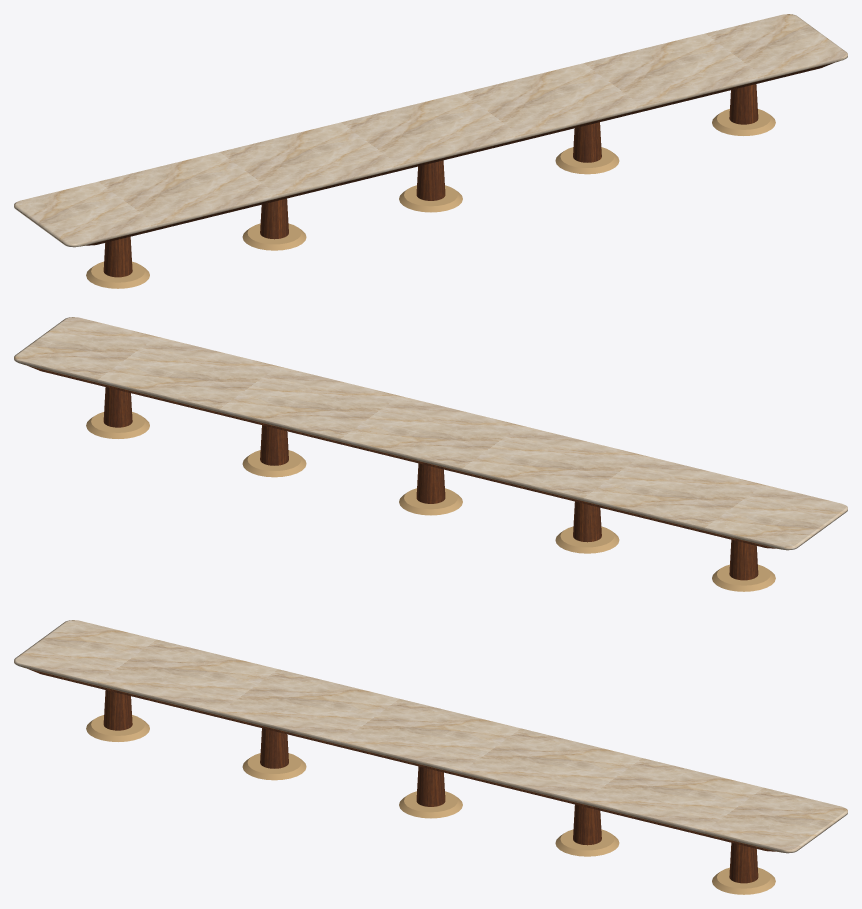
Rendered from SaloonRectangularTableFor24.glb.
3 renders of one model, top to bottom at view 1: azimuth 30°, elevation 25°; view 2: azimuth 150°, elevation 25°; view 3: azimuth 330°, elevation 25°, orthographic.
Parts seen in each view (by area): view 1: Champagne edge.006; view 2: Champagne edge.006; view 3: Champagne edge.006.
Boxes of the visible parts, left/top/right/bottom form: Champagne edge.006: left=14, top=14, right=847, bottom=288; Champagne edge.006: left=14, top=317, right=847, bottom=591; Champagne edge.006: left=14, top=620, right=847, bottom=894.
Size of the model in its own units: 9.02 by 0.77 by 1.18.
Materials: 3 (2 with a texture image).
